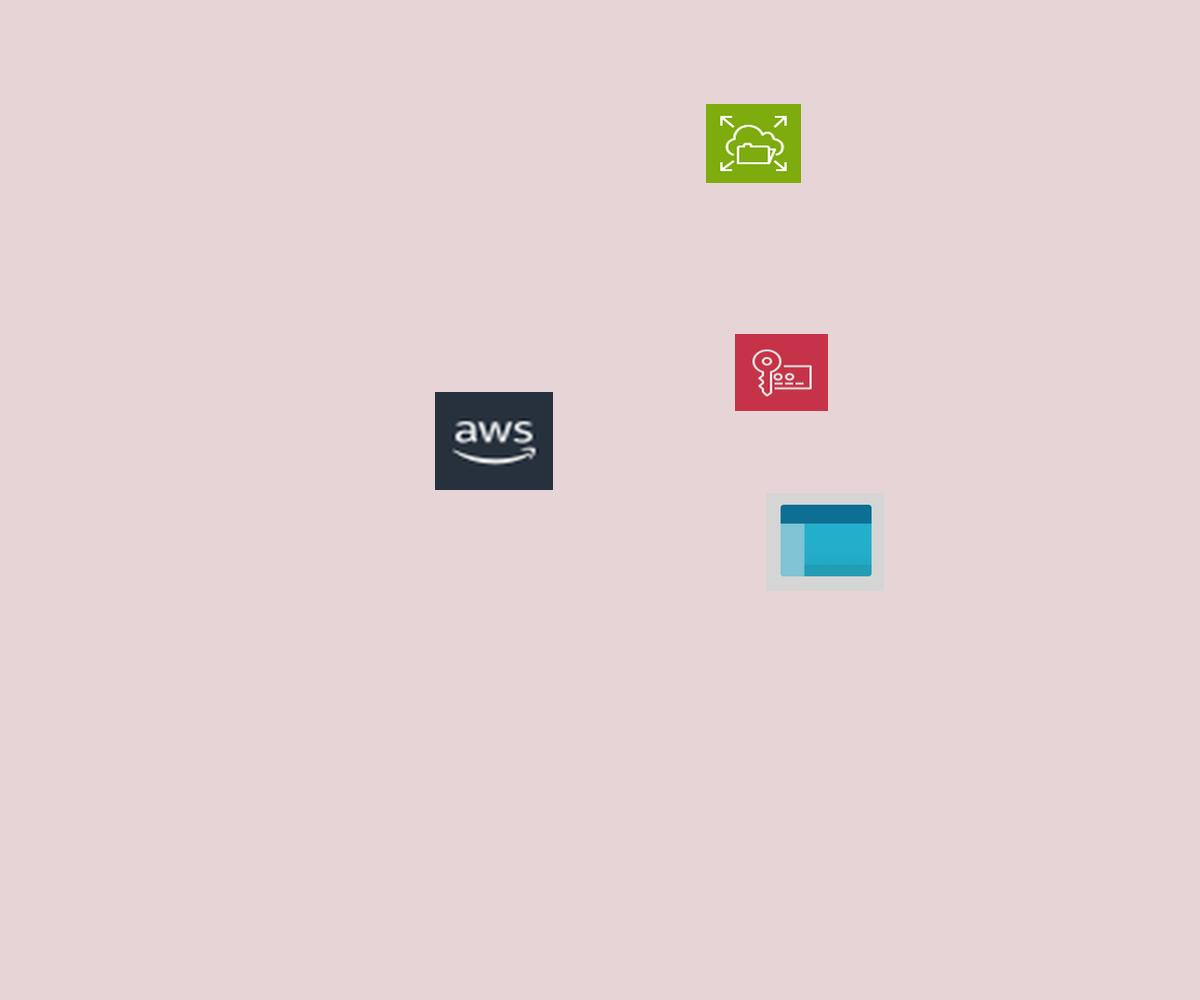AWS-Cloud-logo: (435, 392, 553, 490)
AWS-EFS: (706, 104, 801, 183)
AWS-Key-Management-Service: (735, 334, 828, 411)
Azure_management-portal: (766, 493, 884, 591)
